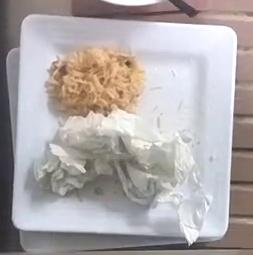rice: (45, 46, 143, 114)
